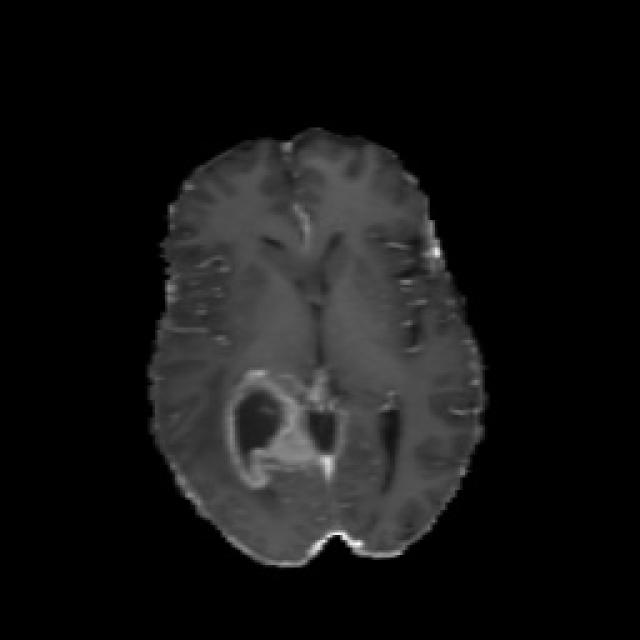negative: (222, 372, 308, 486)
